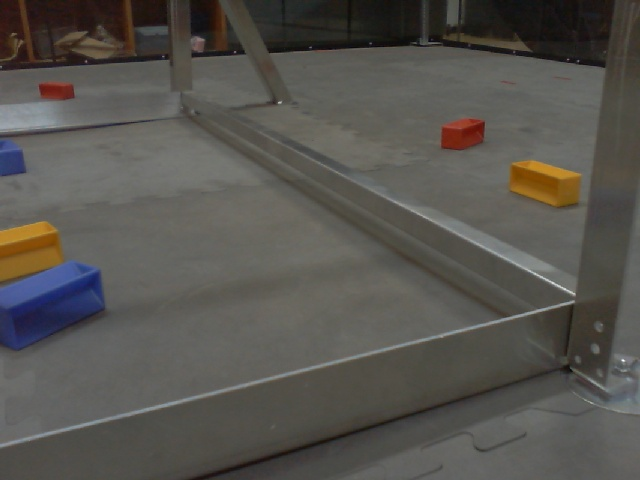BlueSample: (1, 257, 110, 352), (1, 136, 28, 181)
RedSample: (442, 117, 485, 150), (35, 80, 78, 101)
YellowSample: (504, 155, 585, 212), (1, 220, 65, 283)
